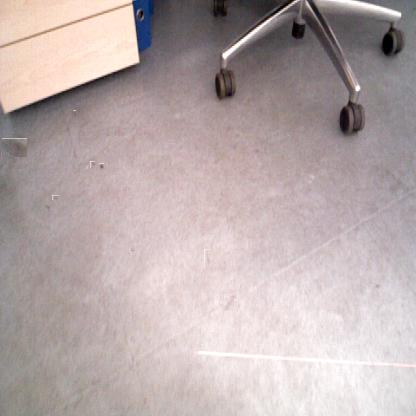mark: (1, 138, 27, 157), (223, 294, 239, 310), (204, 249, 211, 268), (373, 281, 381, 289), (42, 204, 50, 212), (98, 163, 104, 170), (90, 161, 95, 168), (53, 194, 58, 200), (72, 110, 76, 117), (130, 248, 135, 253)
